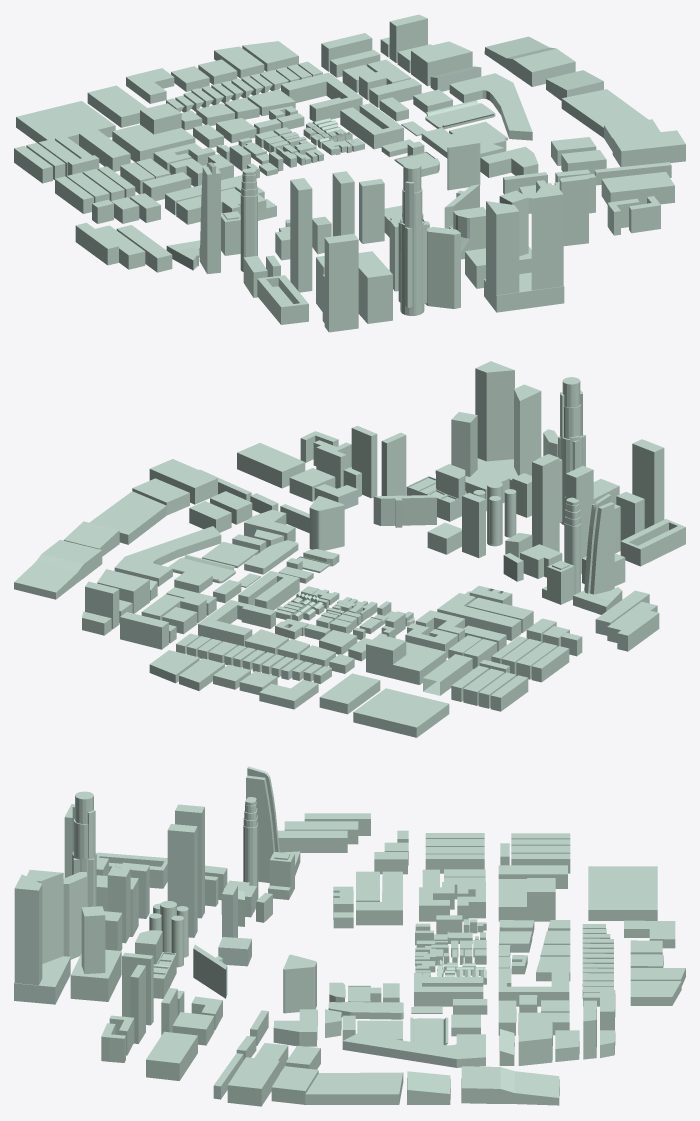
File: transparent buildings.glb
The picture shows the model from 3 angles, top to bottom: view 1: azimuth 30°, elevation 25°; view 2: azimuth 150°, elevation 25°; view 3: azimuth 270°, elevation 25°; orthographic projection. The views are drawn at different scales.
Parts seen in each view (by area): view 1: transparent buildings newbake; view 2: transparent buildings newbake; view 3: transparent buildings newbake.
Part boxes in pixels (bbox=[...]): transparent buildings newbake: bbox=[14, 14, 685, 332]; transparent buildings newbake: bbox=[14, 361, 685, 737]; transparent buildings newbake: bbox=[14, 766, 685, 1106].
Size of the model in its own units: 80.15 by 20.58 by 82.54.
Materials: 1 (1 with a texture image).
